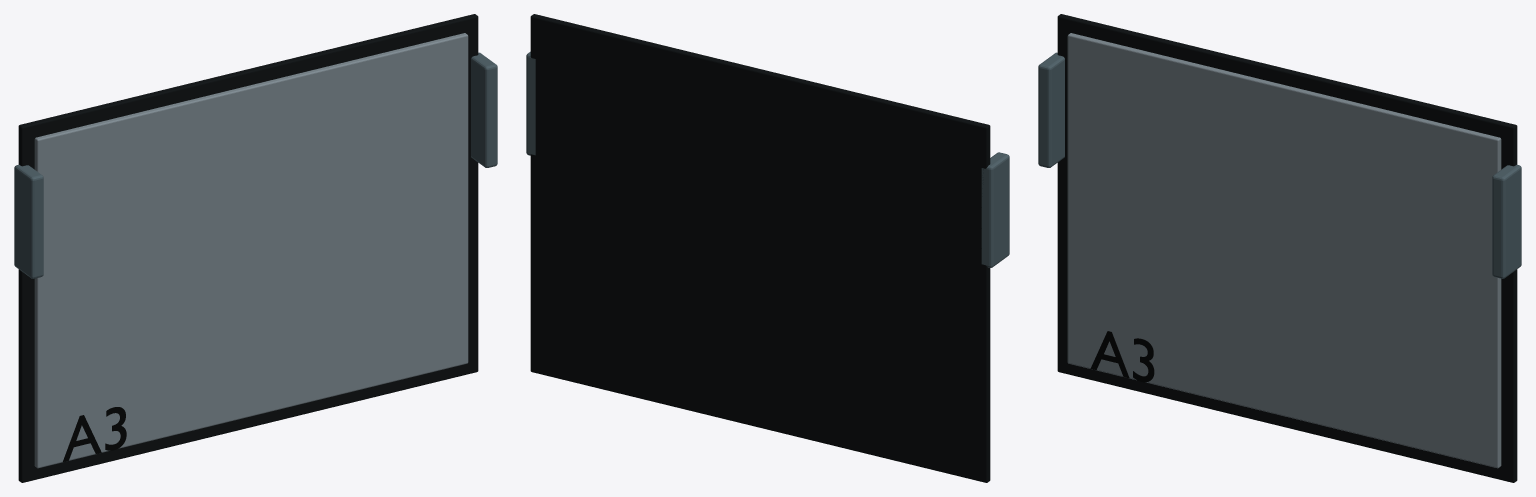
The model's file is slot_a3.obj.
3 renders of one model, left to right at view 1: azimuth 30°, elevation 25°; view 2: azimuth 150°, elevation 25°; view 3: azimuth 330°, elevation 25°, orthographic.
Visible parts, largest first — view 1: flex__slot_a3__insert, flex__slot_a3__recess, flex__slot_a3__locator, flex__slot_a3__locator.001, flex__slot_a3__id; view 2: flex__slot_a3__recess, flex__slot_a3__locator, flex__slot_a3__locator.001; view 3: flex__slot_a3__insert, flex__slot_a3__recess, flex__slot_a3__locator.001, flex__slot_a3__locator, flex__slot_a3__id.
Boxes of the visible parts, x1,y1,x2,y2 form: flex__slot_a3__insert: (34,33,468,468); flex__slot_a3__recess: (18,14,478,482); flex__slot_a3__locator: (14,164,43,278); flex__slot_a3__locator.001: (471,52,497,167); flex__slot_a3__id: (63,407,126,461); flex__slot_a3__recess: (530,14,990,482); flex__slot_a3__locator: (981,152,1009,267); flex__slot_a3__locator.001: (526,51,535,155); flex__slot_a3__insert: (1067,33,1501,468); flex__slot_a3__recess: (1057,14,1517,482); flex__slot_a3__locator.001: (1492,164,1521,278); flex__slot_a3__locator: (1038,52,1064,167); flex__slot_a3__id: (1090,331,1154,382).
Size of the model in its own units: 0.144 by 0.105 by 0.01.
